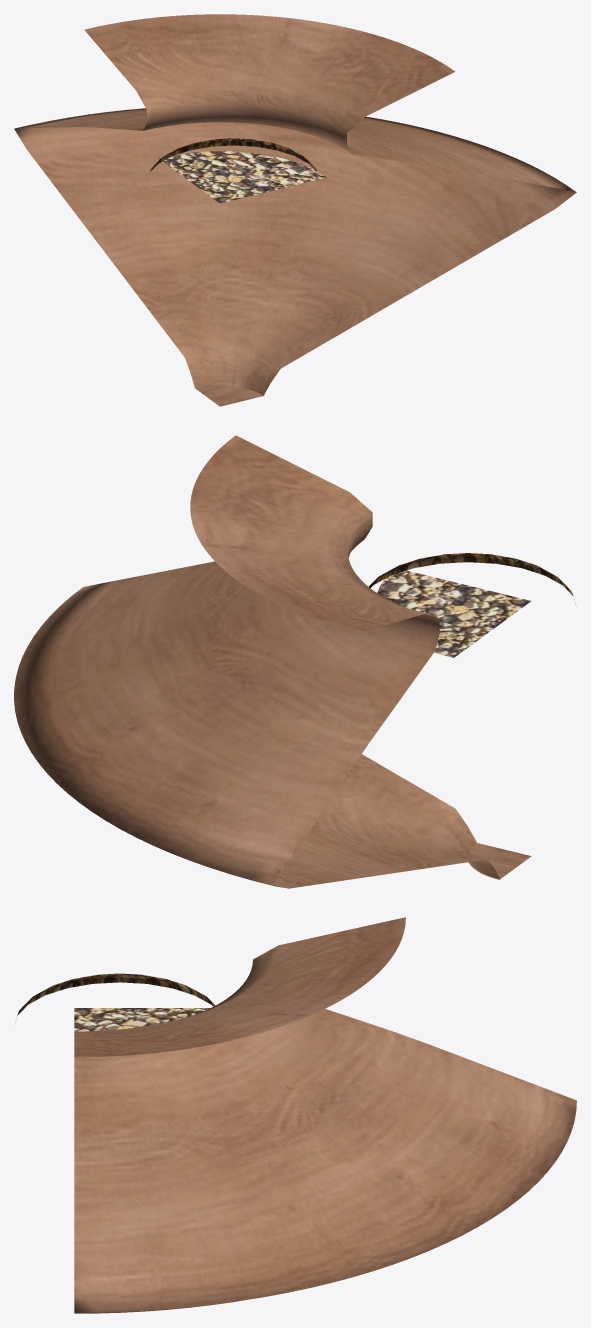
File: vase-with-mud.glb
3 renders of one model, top to bottom at view 1: azimuth 30°, elevation 25°; view 2: azimuth 150°, elevation 25°; view 3: azimuth 270°, elevation 25°, orthographic. The views are drawn at different scales.
Visible parts, largest first — view 1: vase_body, vase_soil, vase_mud, vase_base; view 2: vase_body, vase_soil, vase_mud, vase_base; view 3: vase_body, vase_soil, vase_mud.
Part boxes in pixels (left/top/right/bottom): vase_body: left=14, top=14, right=576, bottom=395; vase_soil: left=158, top=151, right=326, bottom=203; vase_mud: left=150, top=138, right=317, bottom=172; vase_base: left=195, top=385, right=264, bottom=406; vase_body: left=14, top=435, right=499, bottom=888; vase_soil: left=377, top=570, right=531, bottom=657; vase_mud: left=368, top=553, right=575, bottom=604; vase_base: left=468, top=843, right=531, bottom=879; vase_body: left=74, top=917, right=576, bottom=1313; vase_soil: left=74, top=1008, right=210, bottom=1031; vase_mud: left=17, top=973, right=215, bottom=1015.
Bounding box in the file's own units: 0.3091 × 0.205 × 0.3091.
5 materials, 4 textured.
